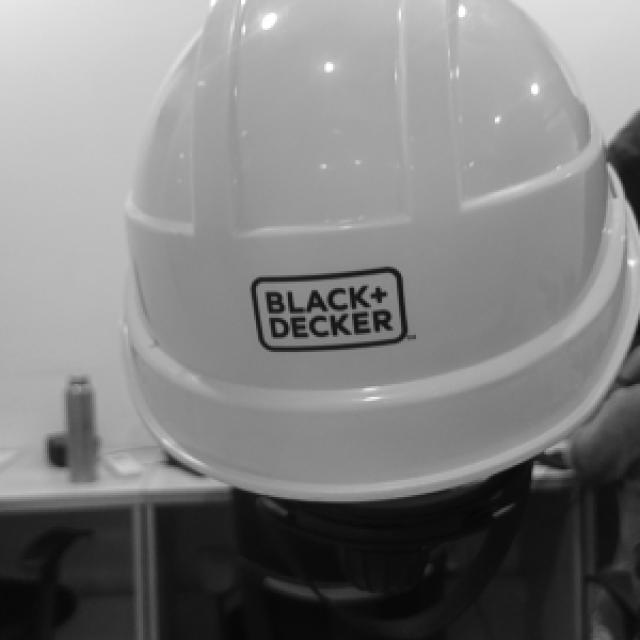safety_helmet: (121, 0, 640, 503)
